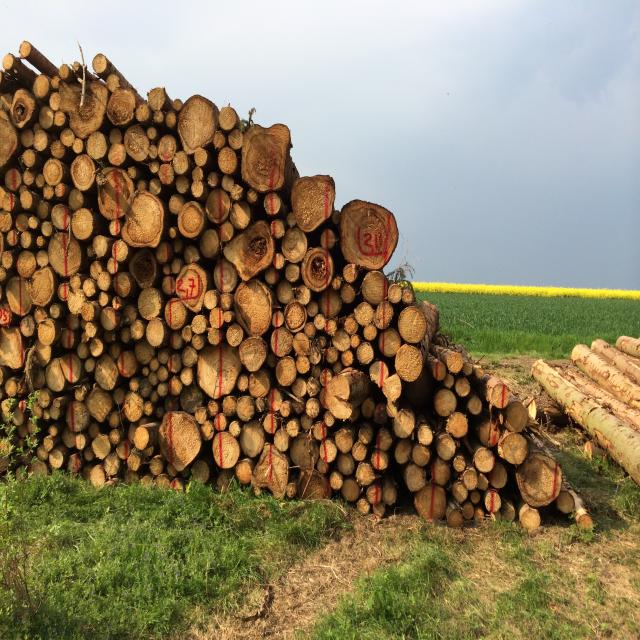wood-log: (338, 201, 396, 270), (241, 122, 287, 192), (228, 217, 275, 279), (62, 82, 107, 140), (289, 177, 333, 234), (160, 413, 203, 471), (198, 344, 243, 399), (123, 194, 167, 248), (177, 94, 218, 151), (517, 456, 560, 508), (234, 282, 272, 337), (49, 230, 86, 277), (128, 249, 161, 289), (26, 267, 56, 307), (393, 343, 424, 380), (398, 306, 428, 344), (106, 87, 134, 126), (498, 432, 529, 467), (414, 483, 444, 519), (0, 329, 25, 371), (239, 336, 267, 372), (124, 125, 151, 162), (212, 432, 239, 469), (94, 354, 120, 392), (0, 111, 17, 169), (86, 388, 115, 422), (282, 228, 310, 263), (361, 270, 388, 306), (240, 421, 267, 457), (72, 155, 98, 192), (501, 401, 530, 434), (304, 257, 332, 291), (178, 202, 205, 237), (137, 289, 164, 322), (318, 282, 342, 318), (390, 407, 416, 438), (379, 328, 404, 359), (354, 302, 376, 336), (71, 208, 94, 240), (270, 328, 294, 358), (431, 456, 454, 487), (199, 228, 221, 260), (166, 300, 188, 332), (252, 369, 274, 400), (404, 464, 428, 492), (276, 357, 297, 388), (436, 389, 458, 418), (487, 460, 508, 490), (125, 394, 146, 424), (190, 458, 213, 485), (113, 270, 135, 298), (375, 301, 396, 330), (148, 317, 168, 347), (217, 148, 238, 176), (286, 303, 307, 331), (17, 252, 39, 278), (474, 447, 496, 473), (236, 394, 257, 421), (88, 131, 108, 159), (119, 349, 139, 377), (52, 204, 72, 232), (383, 373, 402, 402), (437, 435, 459, 460), (136, 339, 158, 364), (231, 202, 252, 228), (519, 506, 540, 531), (356, 316, 377, 341), (448, 412, 468, 438), (356, 461, 378, 484), (343, 478, 364, 502), (44, 160, 62, 188), (101, 306, 121, 331), (109, 134, 125, 165), (64, 131, 85, 154), (393, 440, 412, 465), (338, 453, 357, 477), (356, 342, 373, 368), (147, 88, 164, 113), (67, 188, 85, 210), (228, 325, 246, 347), (173, 152, 190, 175), (92, 55, 109, 78), (20, 188, 36, 212), (414, 444, 431, 466), (34, 77, 50, 100), (0, 302, 14, 328), (342, 282, 358, 304), (22, 314, 37, 336), (455, 377, 470, 399), (34, 129, 48, 152), (418, 424, 434, 444), (53, 141, 71, 158), (467, 396, 482, 416)
